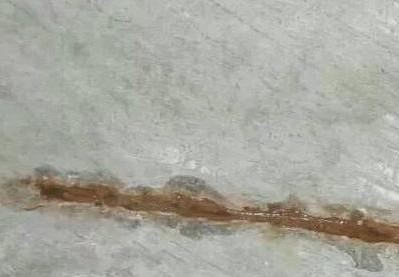Exposed reinforcement: (38, 177, 399, 244)
Spalling: (1, 163, 399, 273)
